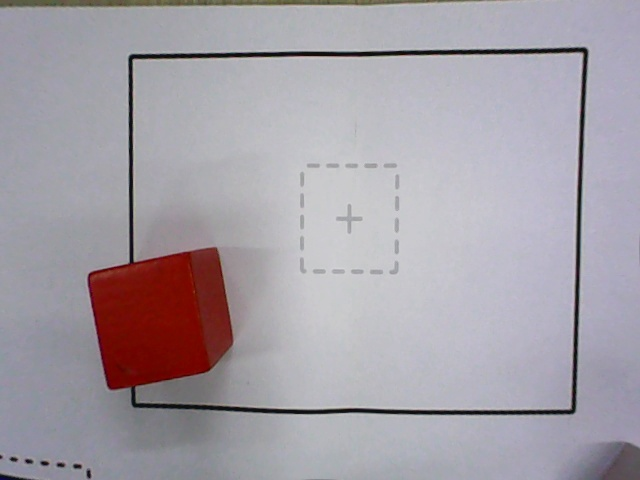upside of big cube: (88, 252, 210, 391)
